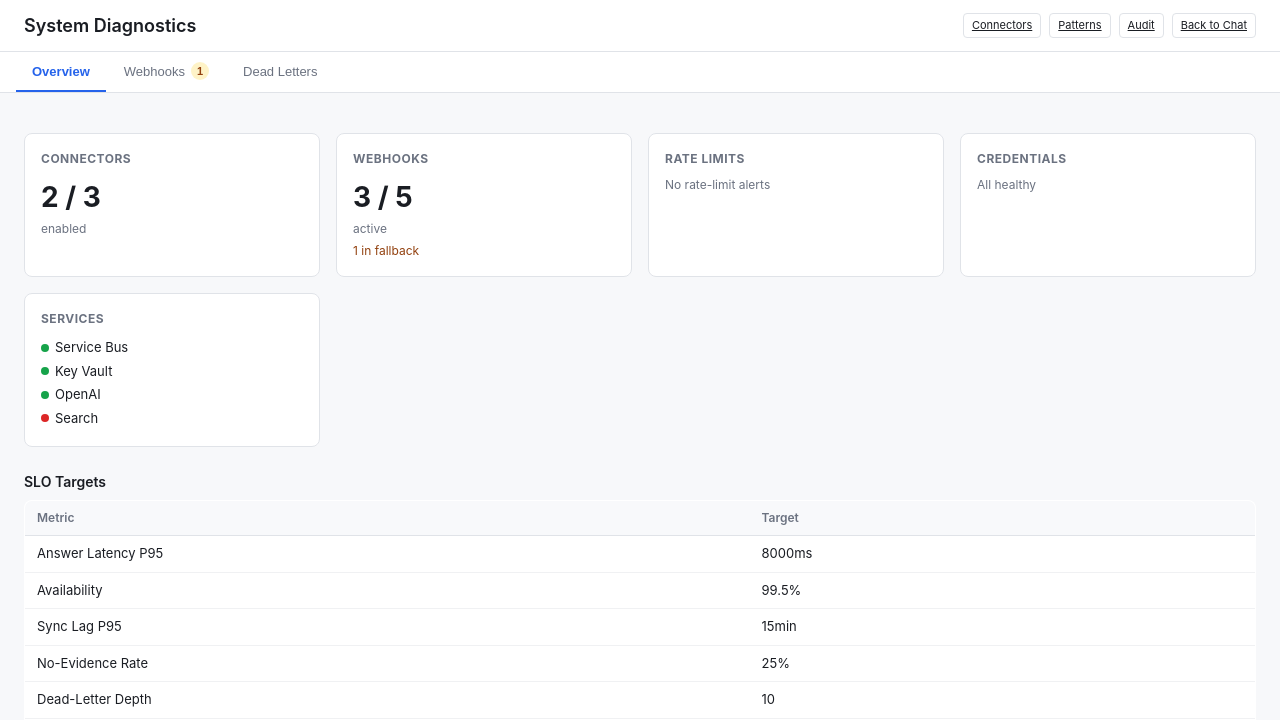
Scenario: DiagnosticsPage › expands dead-letter details on click
This screenshot has width=1280, height=720.
Click the button with test id "tab-dead-letters": [280, 72] box top-left (227, 52), bottom-right (333, 92)
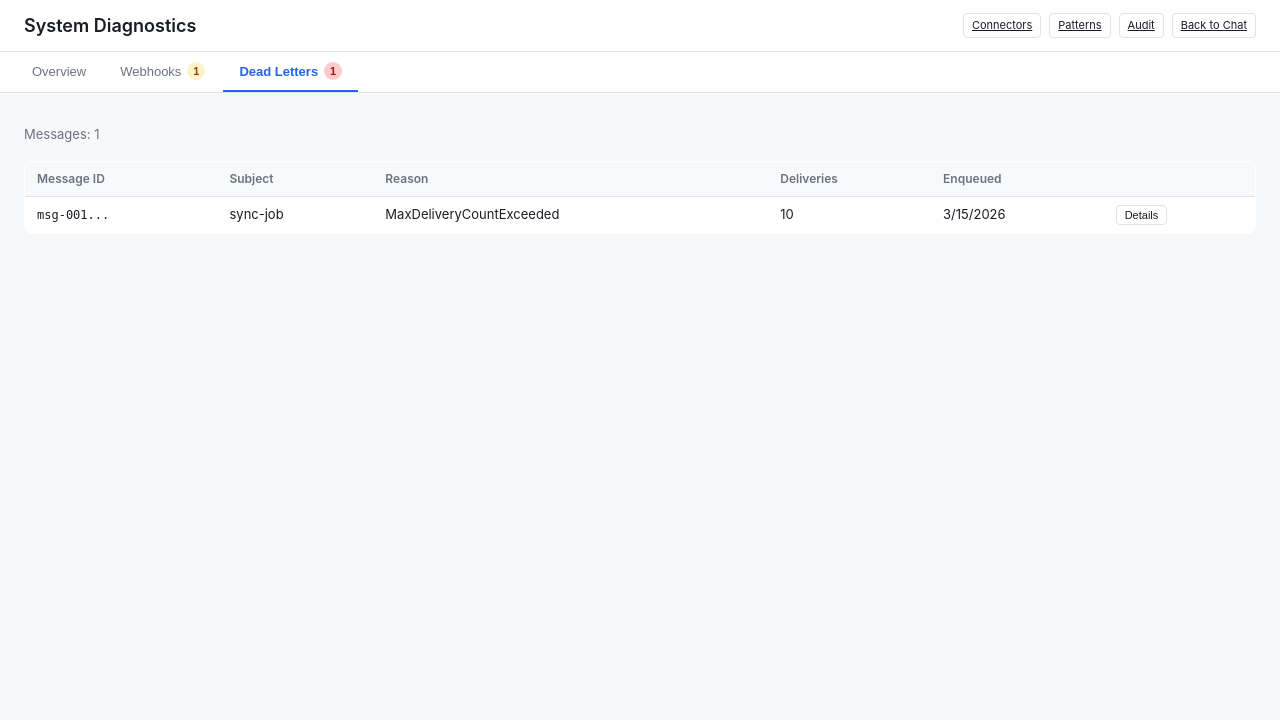
Result: the element with test id "dead-letter-panel" is shown at top-left (24, 117), bottom-right (1256, 234)
Click the button with test id "dl-expand-msg-001": [1142, 214] box top-left (1116, 204), bottom-right (1167, 224)
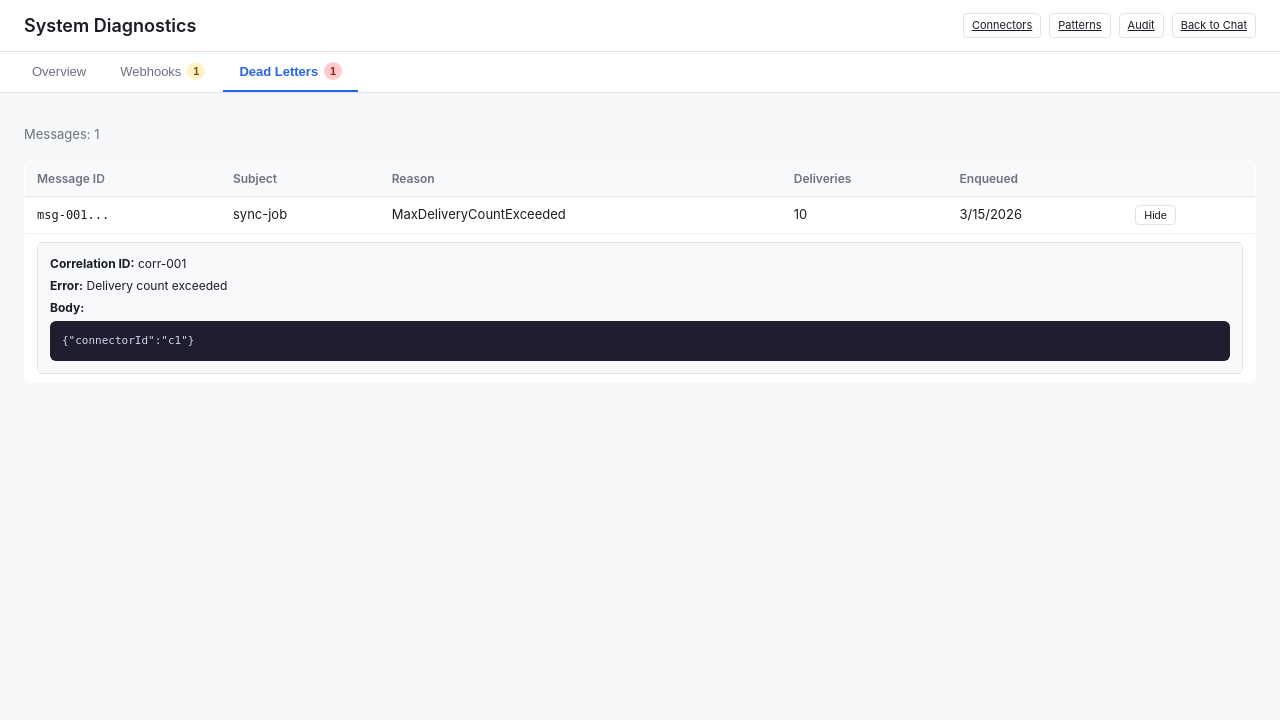
Result: the element with test id "dl-detail-msg-001" is shown at top-left (37, 242), bottom-right (1243, 374)
Result: the text "Delivery count exceeded" is shown at top-left (86, 278), bottom-right (227, 292)
